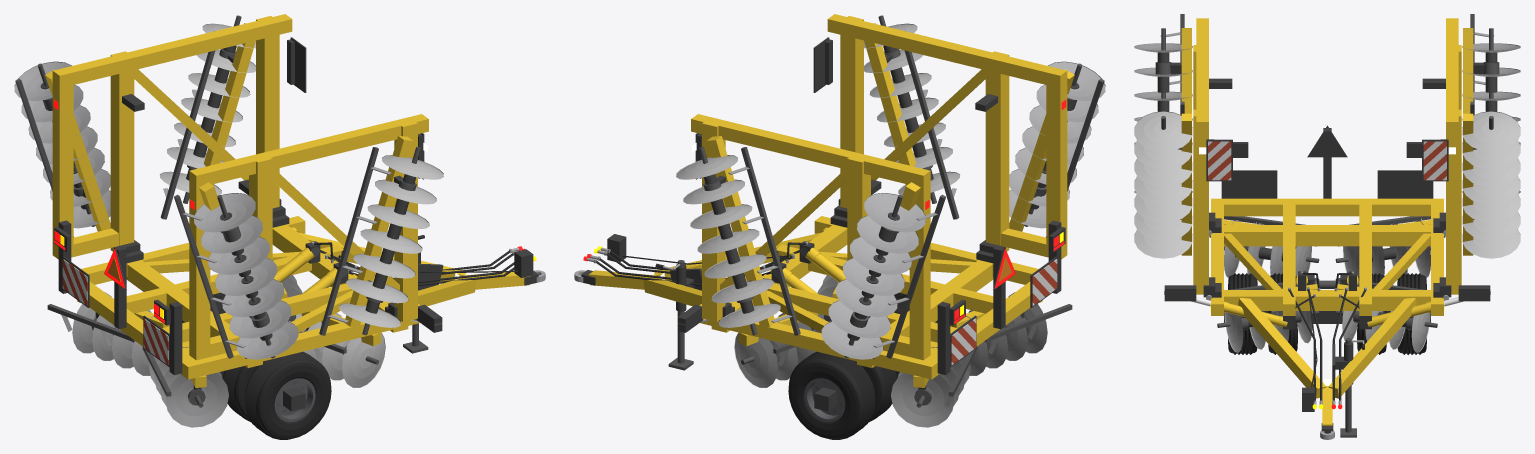
Rendered from disc_harrow.glb.
3 views of the same model, side by side, from view 1: azimuth 30°, elevation 25°; view 2: azimuth 150°, elevation 25°; view 3: azimuth 270°, elevation 25° (orthographic). The views are drawn at different scales.
Visible parts, largest first — view 1: wing_right_tilt, frame, wing_left_tilt, wheel_right_outer_spin, wheel_right_inner_spin, axle_lift_cylinder_left_rotate, transport_axle_tilt; view 2: wing_left_tilt, frame, wing_right_tilt, wheel_left_outer_spin, wheel_left_inner_spin, axle_lift_cylinder_right_rotate, transport_axle_tilt; view 3: frame, wing_right_tilt, wing_left_tilt, wheel_right_outer_spin, wheel_left_outer_spin, transport_axle_tilt, wing_right_fold_cylinder_rotate, wing_left_fold_cylinder_rotate.
Boxes of the visible parts, bbox=[...] form: wing_right_tilt: bbox=[174, 114, 443, 360]; frame: bbox=[47, 215, 545, 427]; wing_left_tilt: bbox=[14, 14, 306, 259]; wheel_right_outer_spin: bbox=[244, 351, 331, 439]; wheel_right_inner_spin: bbox=[223, 366, 257, 421]; axle_lift_cylinder_left_rotate: bbox=[274, 247, 319, 282]; transport_axle_tilt: bbox=[283, 315, 305, 411]; wing_left_tilt: bbox=[676, 114, 945, 360]; frame: bbox=[574, 215, 1072, 427]; wing_right_tilt: bbox=[813, 14, 1105, 259]; wheel_left_outer_spin: bbox=[788, 351, 875, 439]; wheel_left_inner_spin: bbox=[862, 366, 896, 421]; axle_lift_cylinder_right_rotate: bbox=[800, 247, 845, 282]; transport_axle_tilt: bbox=[814, 315, 836, 411]; frame: bbox=[1209, 125, 1445, 439]; wing_right_tilt: bbox=[1134, 14, 1232, 301]; wing_left_tilt: bbox=[1422, 14, 1520, 301]; wheel_right_outer_spin: bbox=[1228, 273, 1257, 354]; wheel_left_outer_spin: bbox=[1397, 273, 1426, 354]; transport_axle_tilt: bbox=[1224, 280, 1430, 323]; wing_right_fold_cylinder_rotate: bbox=[1224, 301, 1287, 327]; wing_left_fold_cylinder_rotate: bbox=[1367, 301, 1430, 327].
Bounding box in the file's own units: 4.48 × 2.93 × 3.65.
Materials: 16 (16 with a texture image).
